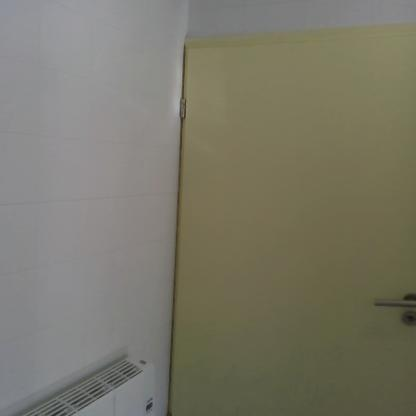door: (186, 48, 415, 412)
hinged: (178, 96, 188, 119), (165, 411, 173, 415)
lever: (372, 292, 416, 310)
